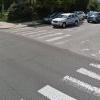Crosswalk: (11, 24, 100, 100)
